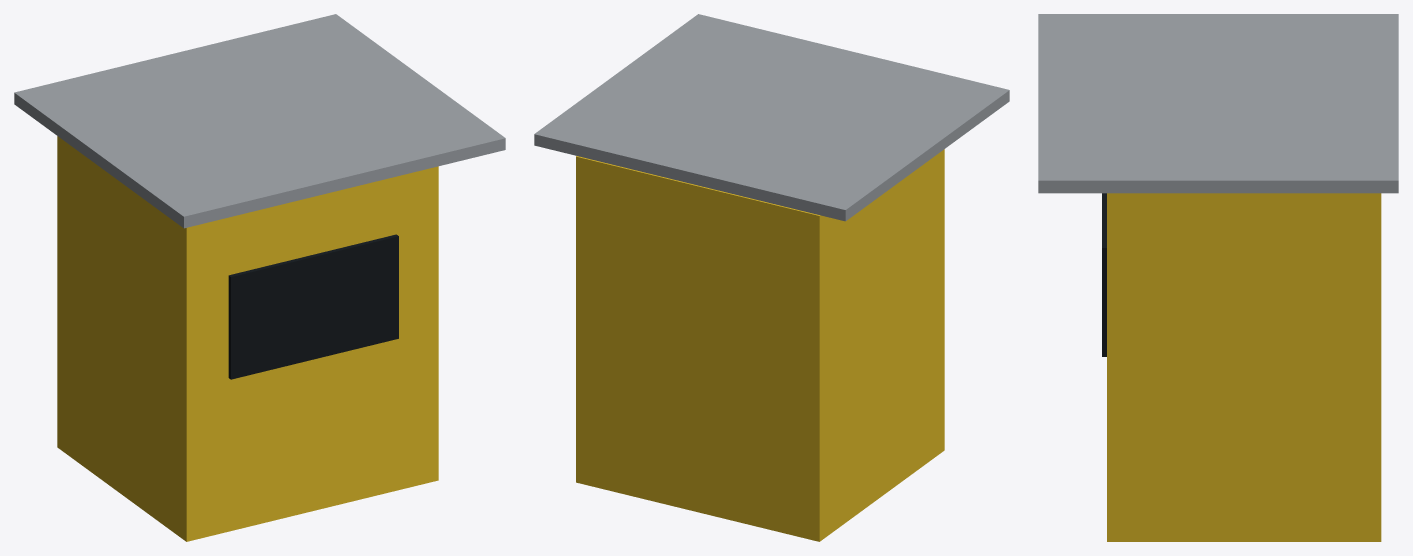
Rendered from kiosk_booth.glb.
3 renders of one model, left to right at view 1: azimuth 30°, elevation 25°; view 2: azimuth 150°, elevation 25°; view 3: azimuth 270°, elevation 25°, orthographic. The views are drawn at different scales.
Parts seen in each view (by area): view 1: kiosk_booth; view 2: kiosk_booth; view 3: kiosk_booth.
Part boxes in pixels (<box>): kiosk_booth: <box>14,14,505,541</box>; kiosk_booth: <box>534,14,1009,541</box>; kiosk_booth: <box>1038,14,1398,541</box>.
Size of the model in its own units: 2.3 by 2.44 by 2.1.
